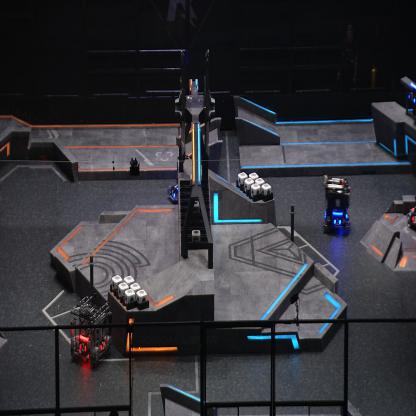car: (69, 292, 113, 364), (322, 172, 350, 232), (166, 169, 188, 204), (405, 189, 416, 230)
